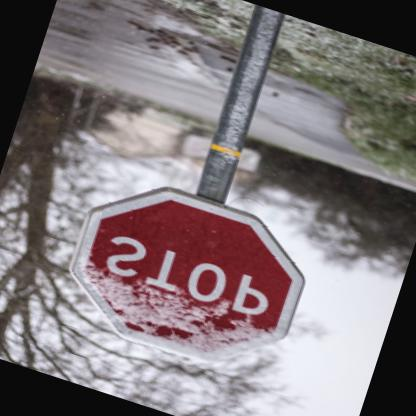stop: (47, 166, 318, 388)
